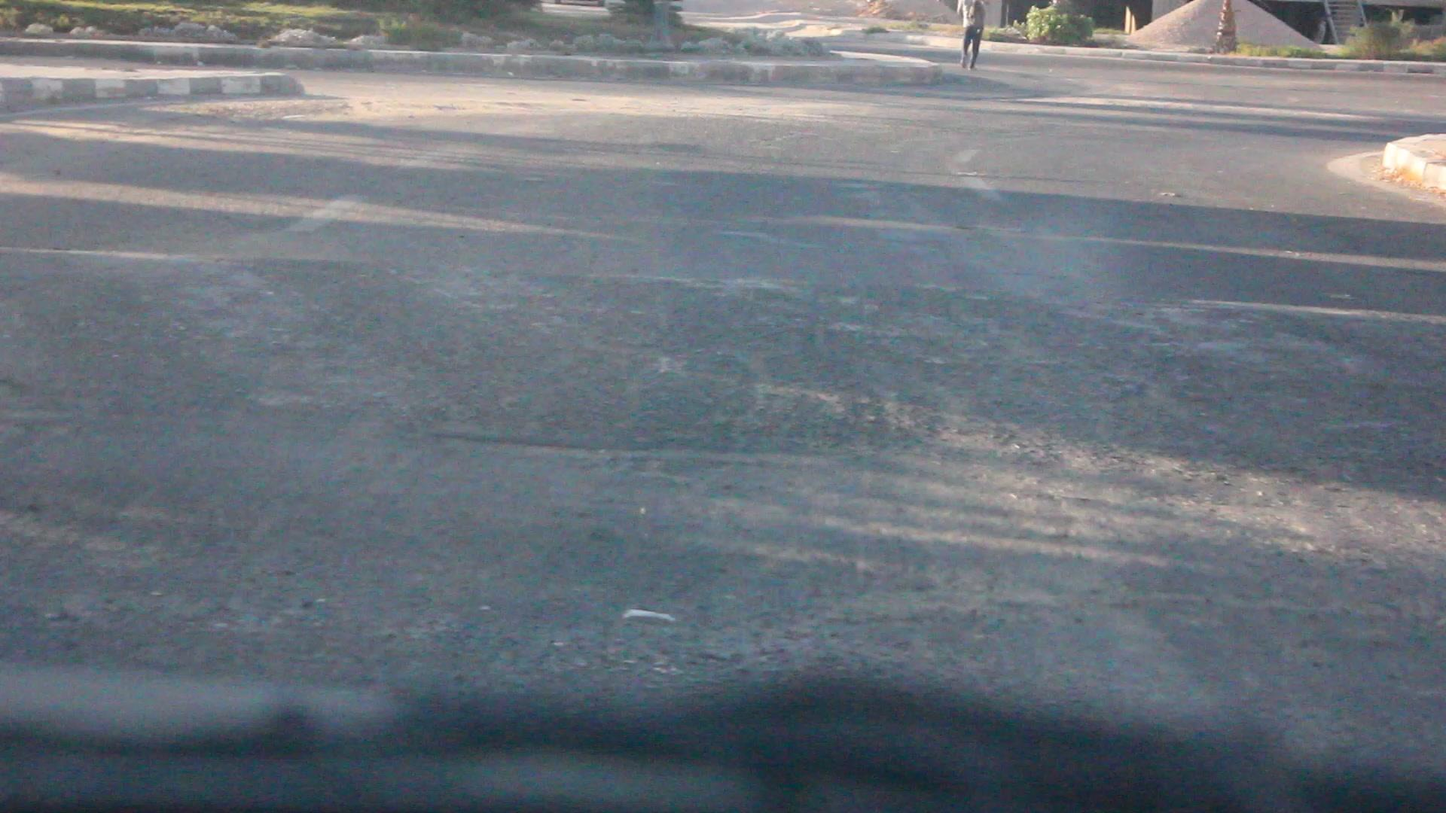Bump: (9, 252, 1446, 476)
